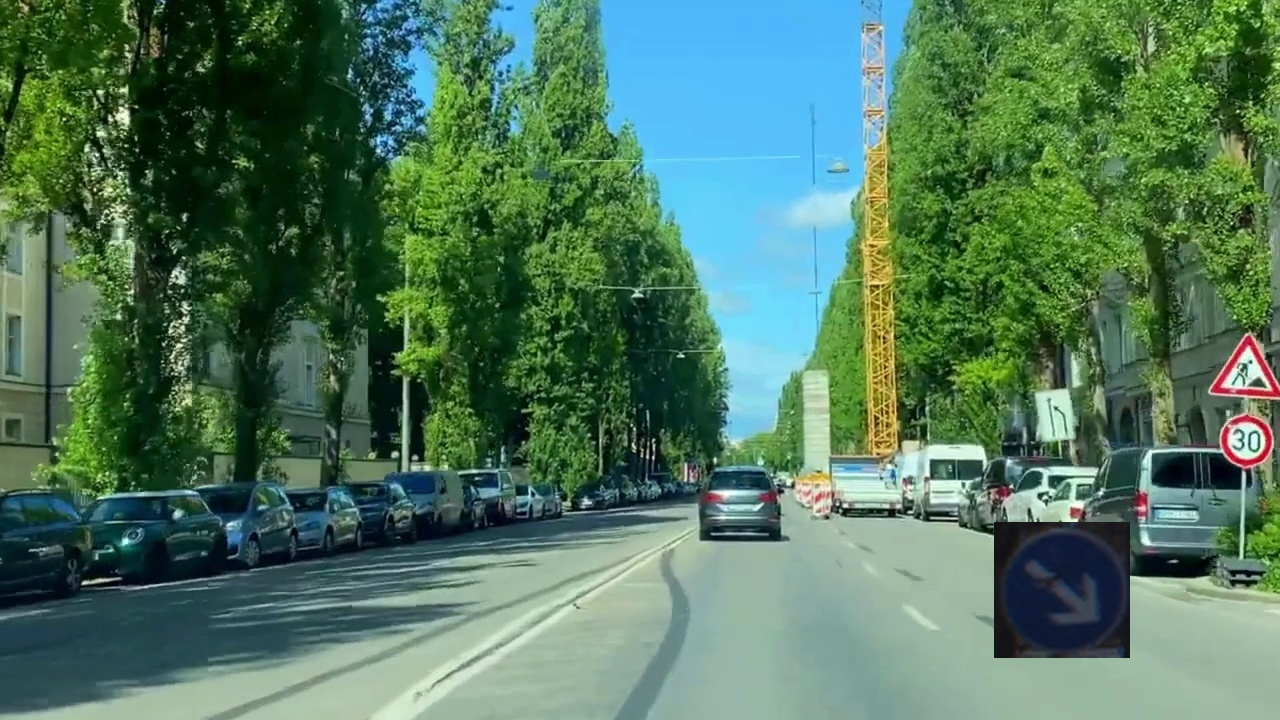Keep right: (994, 522, 1130, 658)
